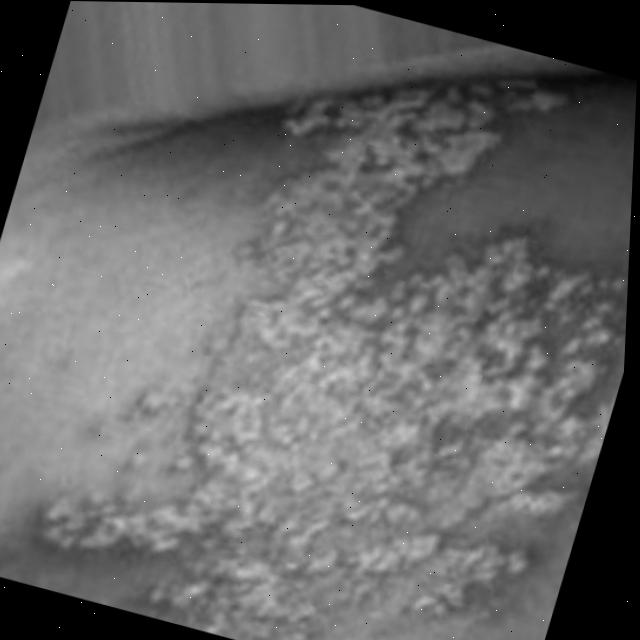Shingles: (41, 37, 638, 640)
